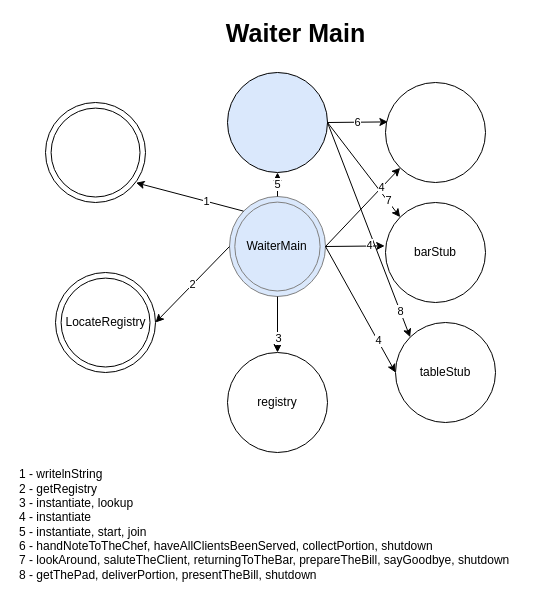
This 542x609 diagram has some shape labels left out. Here are the shapes that lost their labels. From the top down, the centre of each, then its label:
(x=277, y=122): waiter
(x=435, y=132): kitchenStub
(x=95, y=152): GenericIO
